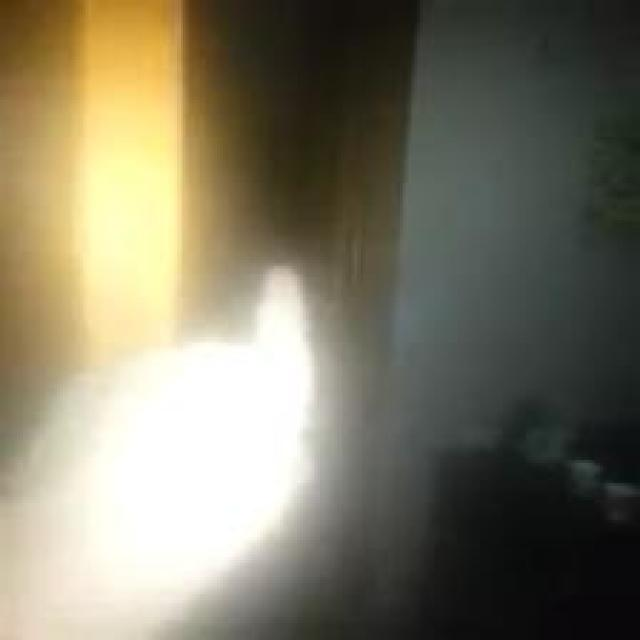other: (47, 289, 299, 582)
